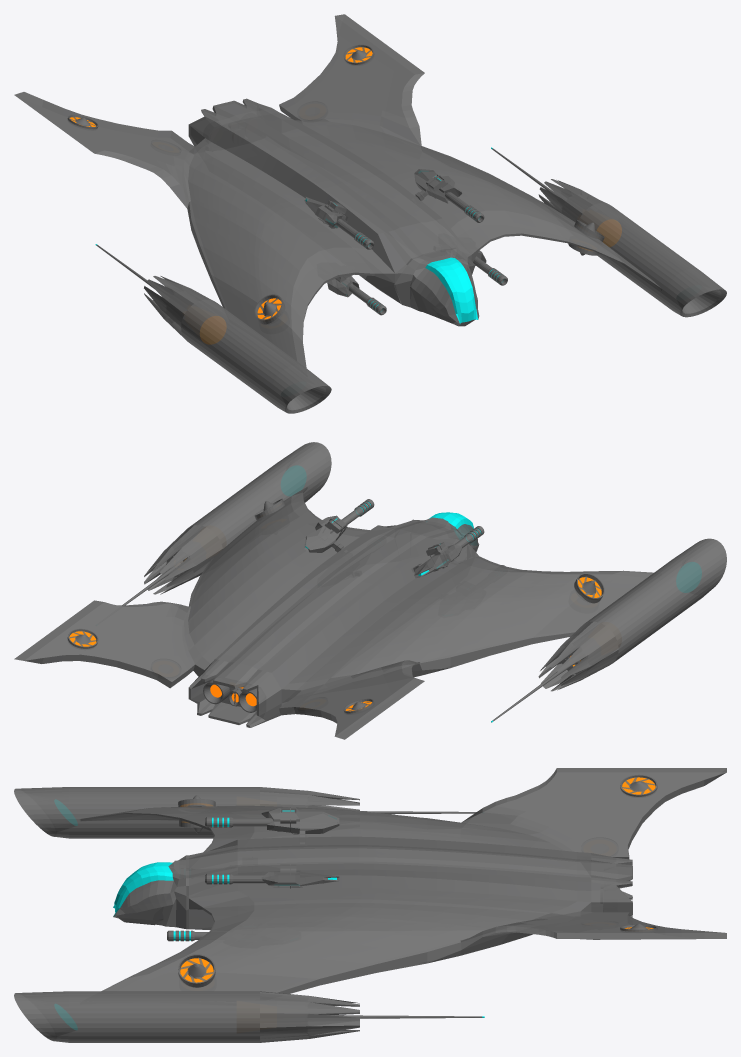
The picture shows the model from 3 angles, top to bottom: view 1: azimuth 30°, elevation 25°; view 2: azimuth 150°, elevation 25°; view 3: azimuth 270°, elevation 25°; orthographic projection. The views are drawn at different scales.
Parts seen in each view (by area): view 1: Cube.001; view 2: Cube.001; view 3: Cube.001.
Boxes of the visible parts, x1,y1,x2,y2 form: Cube.001: [14, 14, 726, 413]; Cube.001: [14, 442, 726, 739]; Cube.001: [14, 768, 726, 1042].
Size of the model in its own units: 1448 by 307 by 1929.
